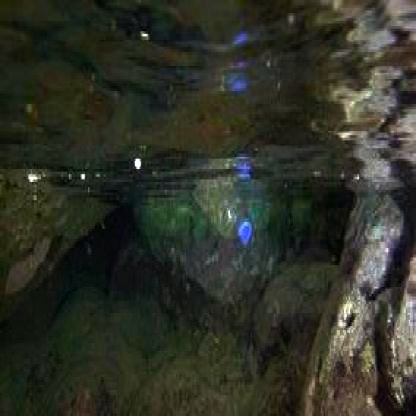pbottle: (170, 156, 259, 252)
